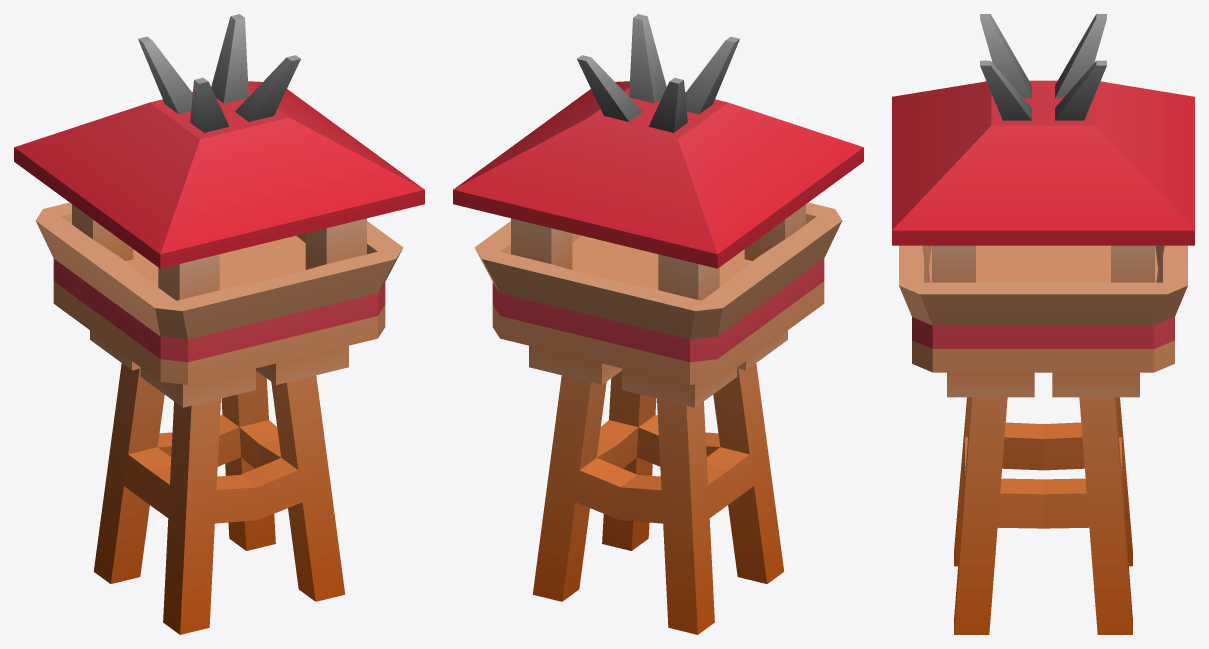
The model's file is Torreta.fbx.
The picture shows the model from 3 angles, left to right: view 1: azimuth 30°, elevation 25°; view 2: azimuth 150°, elevation 25°; view 3: azimuth 270°, elevation 25°; orthographic projection. The views are drawn at different scales.
Parts seen in each view (by area): view 1: Torreta; view 2: Torreta; view 3: Torreta.
Boxes of the visible parts, x1,y1,x2,y2 form: Torreta: [14, 14, 424, 634]; Torreta: [453, 14, 863, 634]; Torreta: [892, 14, 1194, 634].
Size of the model in its own units: 93.88 by 181 by 89.82.
